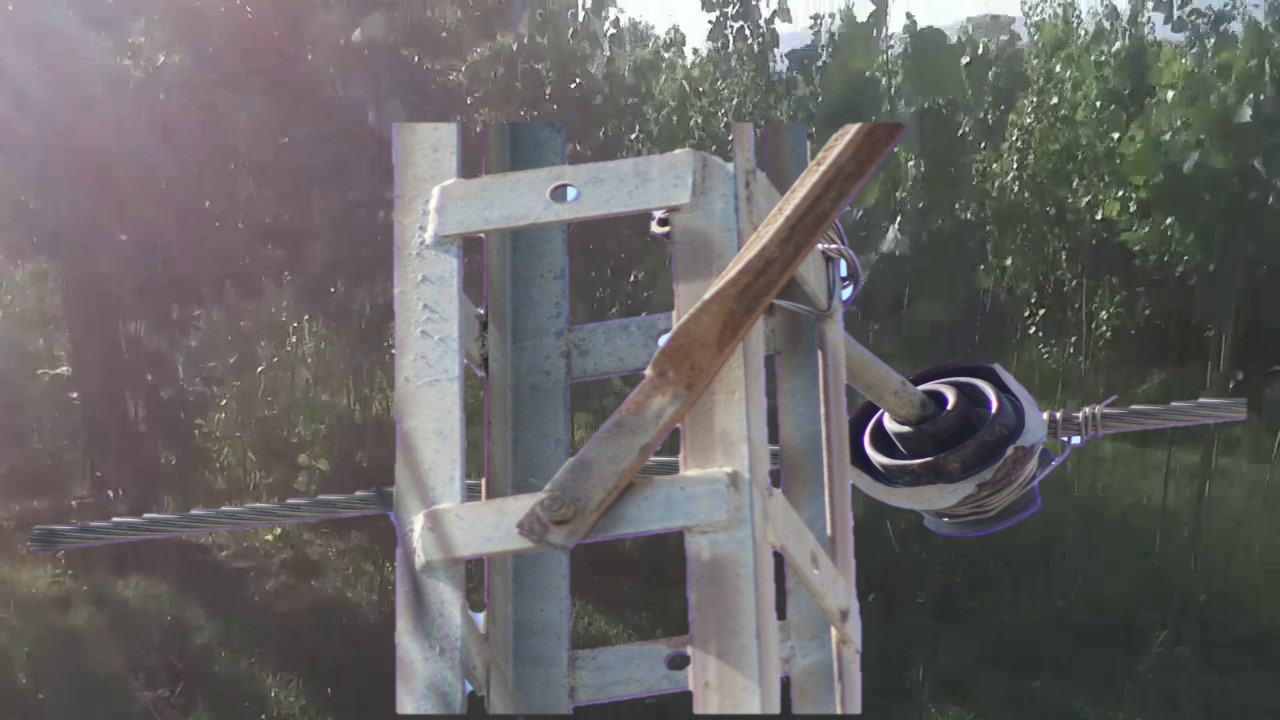defect_pin: (844, 354, 1058, 553)
